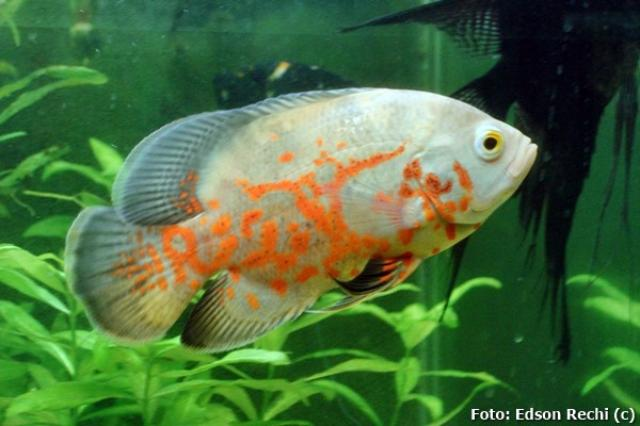Mulut: (491, 120, 551, 186)
Sirip Anal: (178, 263, 312, 363)
Sirip Dada: (318, 152, 432, 244)
Sirip Ekor: (53, 190, 191, 356)
Sirip Perut: (307, 255, 421, 344)
Sirip Punggung: (118, 76, 370, 230)
